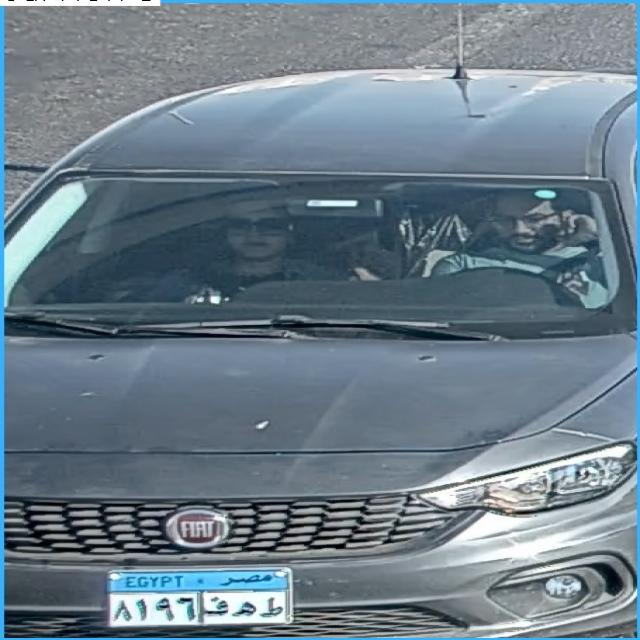windshield: (8, 180, 633, 327)
